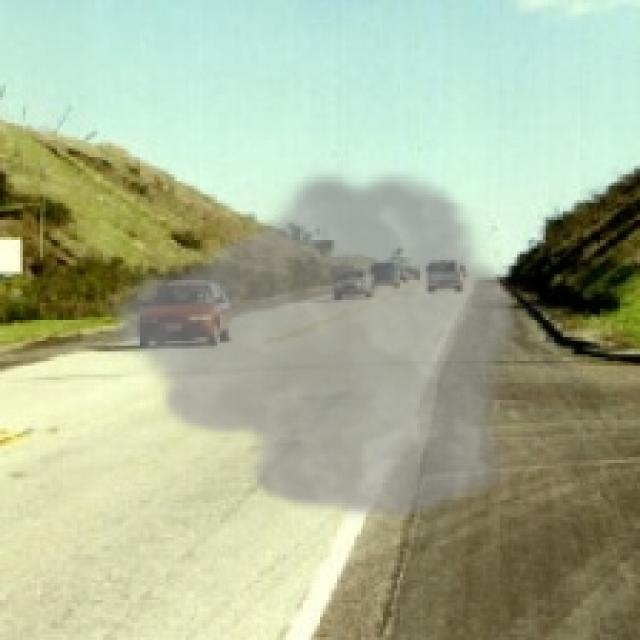smoke: (100, 160, 523, 526)
